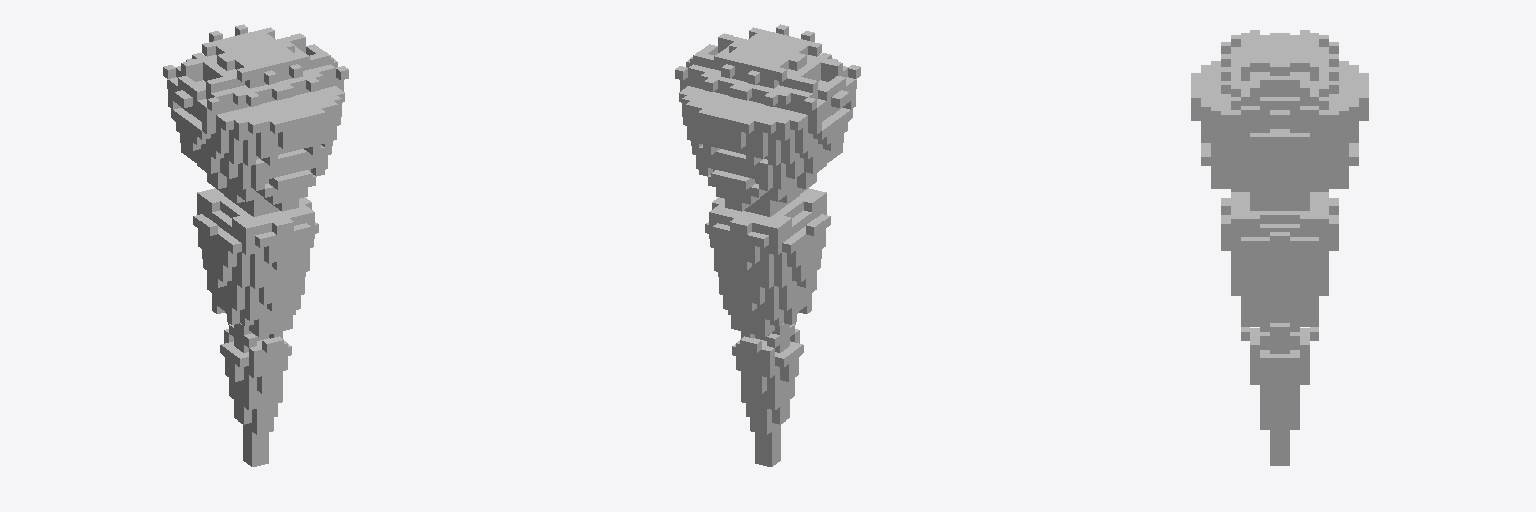
Rendered from stone top falling.obj.
3 renders of one model, left to right at view 1: azimuth 30°, elevation 25°; view 2: azimuth 150°, elevation 25°; view 3: azimuth 270°, elevation 25°, orthographic.
Parts seen in each view (by area): view 1: object 1; view 2: object 1; view 3: object 1.
Part boxes in pixels (x1,y1,x2,y2): object 1: (163,24,348,466); object 1: (675,24,860,466); object 1: (1191,30,1368,465).
Size of the model in its own units: 1.8 by 4.6 by 1.8.